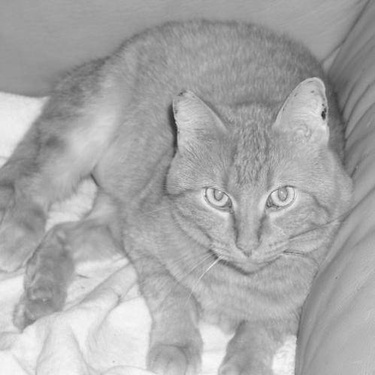cat: (6, 20, 355, 373)
